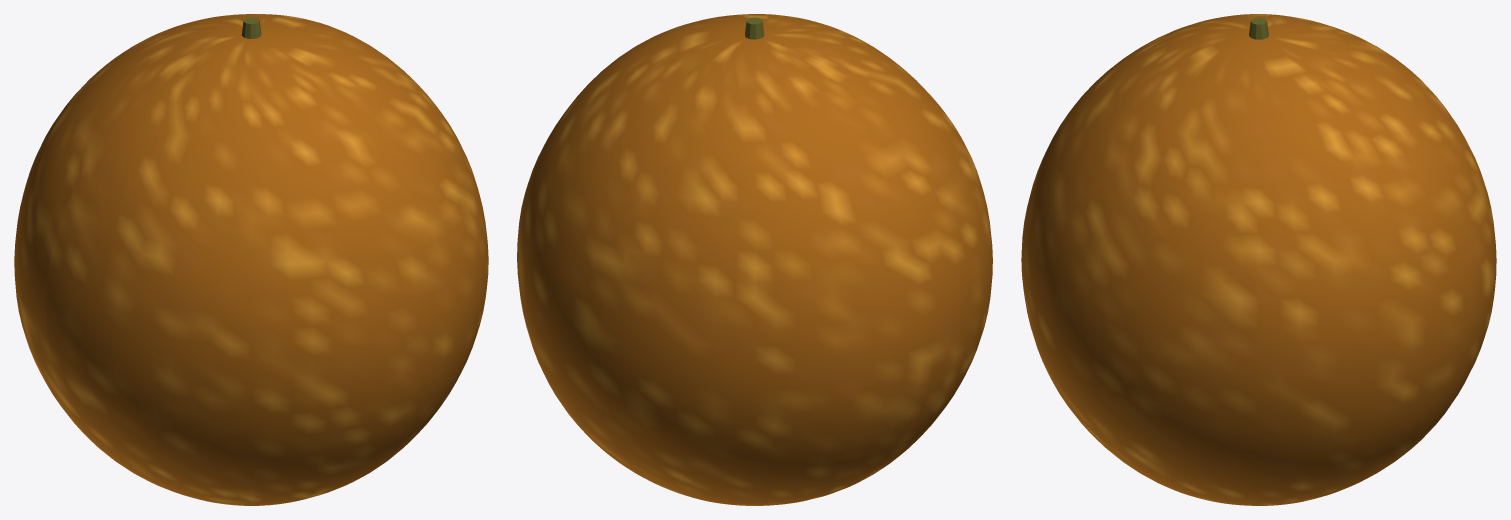
The model's file is melon.glb.
The picture shows the model from 3 angles, left to right: view 1: azimuth 30°, elevation 25°; view 2: azimuth 150°, elevation 25°; view 3: azimuth 270°, elevation 25°; orthographic projection.
Parts seen in each view (by area): view 1: entier_peau, moitie_B_peau, moitie_A_peau; view 2: entier_peau, moitie_A_peau, moitie_B_peau; view 3: entier_peau, moitie_B_peau, moitie_A_peau.
Part boxes in pixels (x1,y1,x2,y2): entier_peau: (14,14,488,505); moitie_B_peau: (46,33,488,505); moitie_A_peau: (16,14,374,452); entier_peau: (517,14,992,505); moitie_A_peau: (521,32,960,505); moitie_B_peau: (659,14,988,453); entier_peau: (1021,14,1496,505); moitie_B_peau: (1023,14,1258,505); moitie_A_peau: (1259,14,1496,505).
Size of the model in its own units: 1.84 by 1.98 by 1.84.
